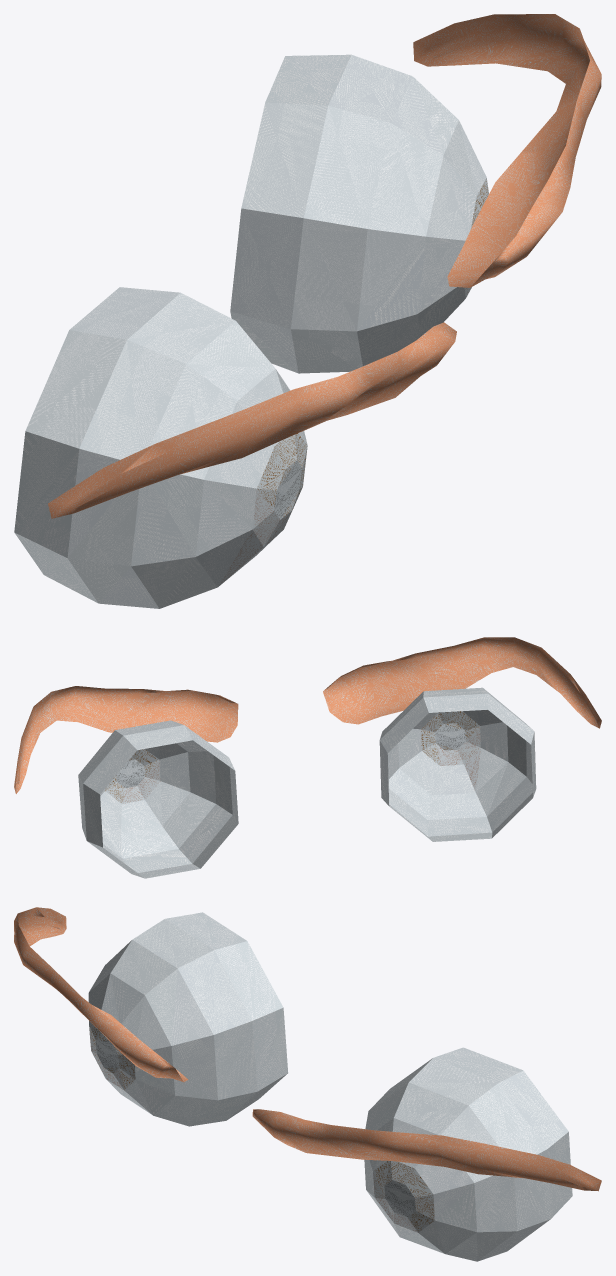
Rendered from eye_eyebrow.dae.
3 renders of one model, top to bottom at view 1: azimuth 30°, elevation 25°; view 2: azimuth 150°, elevation 25°; view 3: azimuth 270°, elevation 25°, orthographic. The views are drawn at different scales.
Parts seen in each view (by area): view 1: group_3_012, group_0, group_3_007, group_0_002, group_2_001, group_2, group_3_005, group_3_006; view 2: group_3_012, group_3_007, group_2, group_2_001, group_0_002, group_0, group_3_005, group_3_006, group_0_003, group_3_011, group_3_010, group_0_001 (+2 smaller); view 3: group_0, group_3_012, group_3_007, group_0_002, group_2_001, group_2, group_3_010, group_3_005, group_3_011, group_3_008.
Boxes of the visible parts, x1,y1,x2,y2 form: group_3_012: (230, 123, 476, 373); group_0: (25, 287, 283, 479); group_3_007: (14, 369, 307, 608); group_0_002: (241, 54, 486, 228); group_2_001: (413, 14, 601, 287); group_2: (48, 322, 456, 518); group_3_005: (257, 433, 307, 525); group_3_006: (218, 489, 291, 586); group_3_012: (78, 740, 238, 878); group_3_007: (379, 710, 536, 841); group_2: (323, 637, 601, 728); group_2_001: (14, 686, 238, 793); group_0_002: (78, 720, 234, 794); group_0: (380, 687, 534, 752); group_3_005: (420, 711, 479, 765); group_3_006: (436, 726, 480, 792); group_0_003: (123, 849, 192, 872); group_3_011: (122, 760, 160, 803); group_3_010: (105, 749, 159, 803); group_0_001: (427, 817, 485, 836); group_0: (89, 912, 283, 1045); group_3_012: (364, 1082, 572, 1261); group_3_007: (88, 974, 288, 1126); group_0_002: (369, 1047, 568, 1168); group_2_001: (252, 1109, 601, 1191); group_2: (14, 907, 188, 1082); group_3_010: (373, 1161, 434, 1232); group_3_005: (89, 1023, 135, 1090); group_3_011: (373, 1172, 417, 1232); group_3_008: (384, 1186, 415, 1216).
Size of the model in its own units: 0.0959 by 0.0894 by 0.0332.
